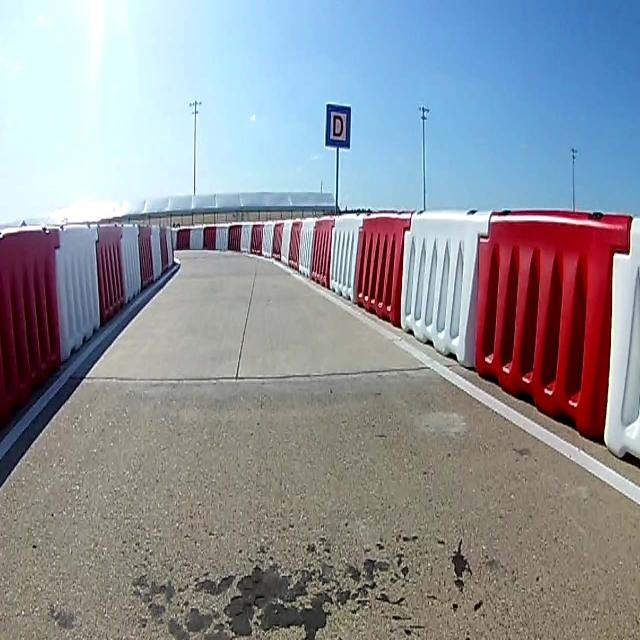durak: (324, 104, 352, 148)
